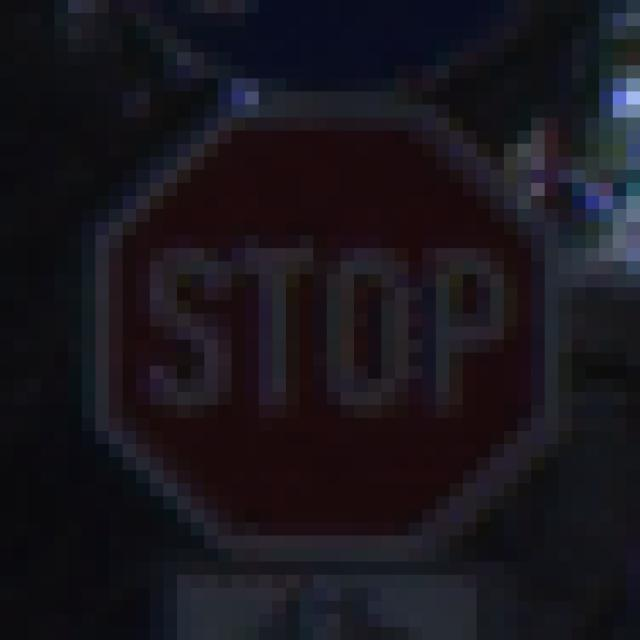STOP: (69, 79, 573, 576)
